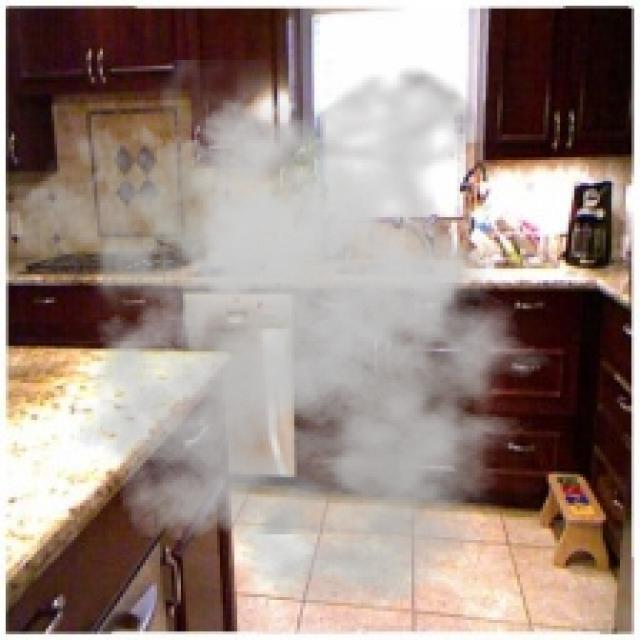Smoke: (17, 59, 574, 612)
